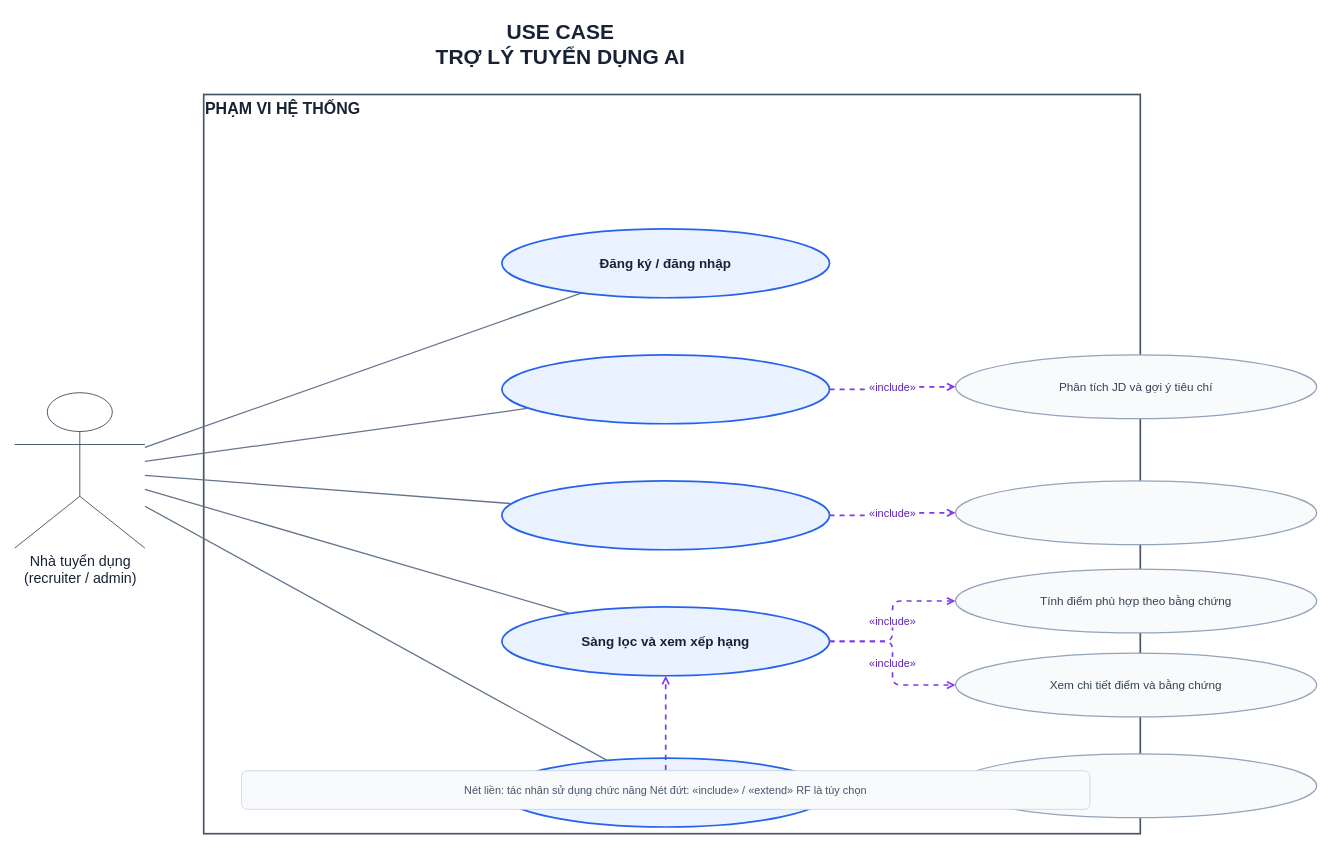
This 1332x848 diagram has some shape labels left out. Each missing label, with the box of its shape:
Kiểm tra tệp · trích xuất CV / OCR: (954, 480, 1317, 545)
Phân loại HIGH / MEDIUM / LOW (nếu mô hình khả dụng): (954, 753, 1317, 818)
Quản lý vị trí tuyển dụng: (501, 354, 830, 424)
Tiếp nhận và xem hồ sơ CV: (501, 480, 830, 550)
